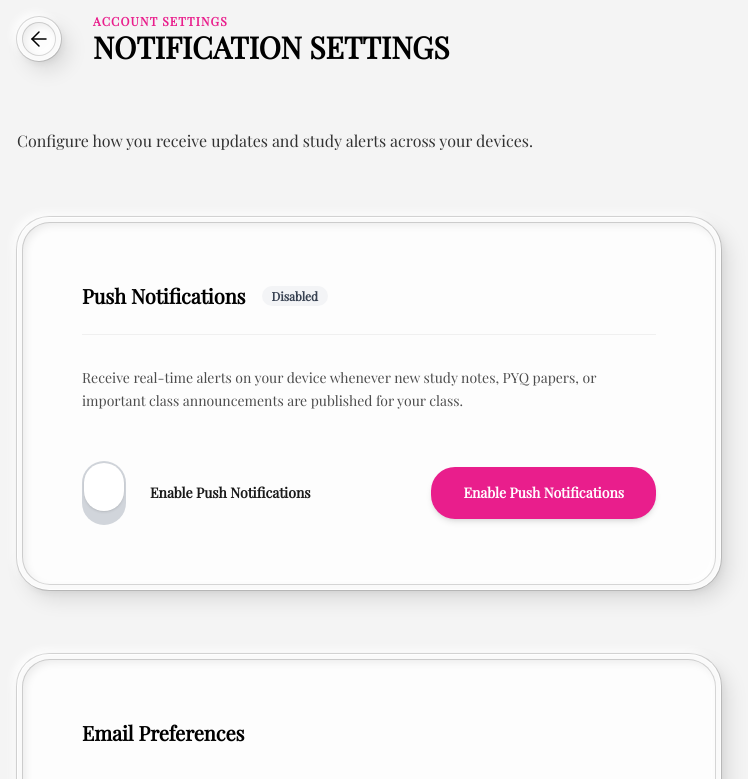
it: NotificationSettings Component › recovers processing state safely when subscribeToPushNotifications throws an unexpected error
The width and height of the screenshot is (748, 779).
Click the button "Enable Push Notifications".
click(544, 492)  # box [432, 466, 656, 518]
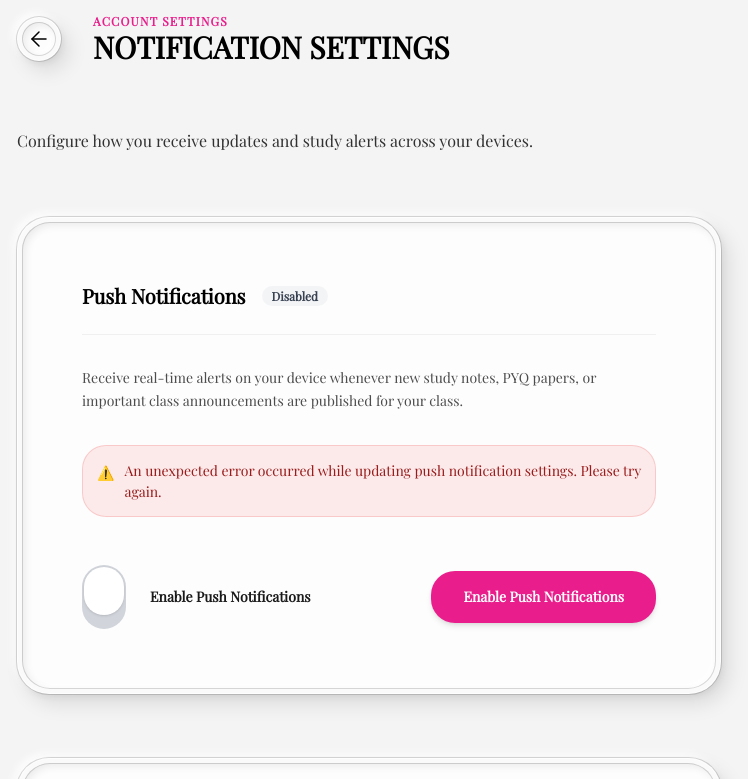
Expected: the switch named "Toggle Push Notifications" is enabled, [82, 564, 126, 628]
Now the message shows "An unexpected error occurred while updating push notification settings.", box [124, 460, 641, 500]
